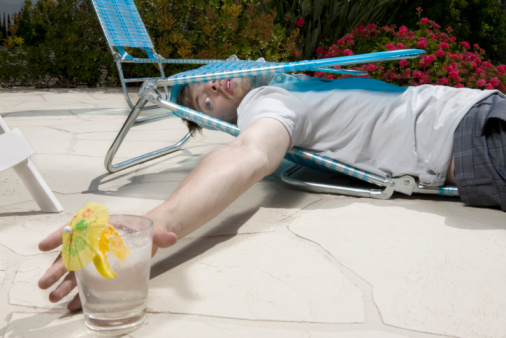deitado: (82, 35, 487, 271)
